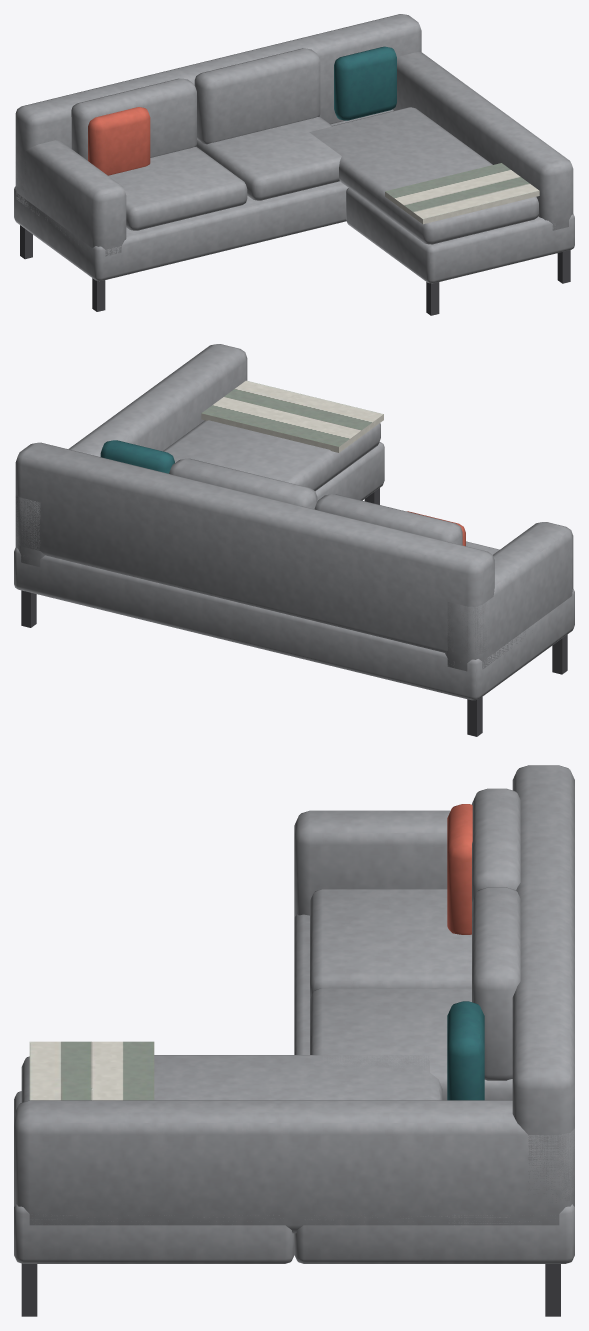
3 views of the same model, one above another, from view 1: azimuth 30°, elevation 25°; view 2: azimuth 150°, elevation 25°; view 3: azimuth 270°, elevation 25° (orthographic). The views are drawn at different scales.
Parts seen in each view (by area): view 1: Decor_sofa_corner; view 2: Decor_sofa_corner; view 3: Decor_sofa_corner.
Part boxes in pixels (box(x1,y1,x2,y2)): Decor_sofa_corner: box(14, 14, 574, 315); Decor_sofa_corner: box(14, 344, 574, 736); Decor_sofa_corner: box(14, 765, 574, 1316).
Size of the model in its own units: 2.4 by 0.8951 by 1.8.
5 materials, 4 textured.
